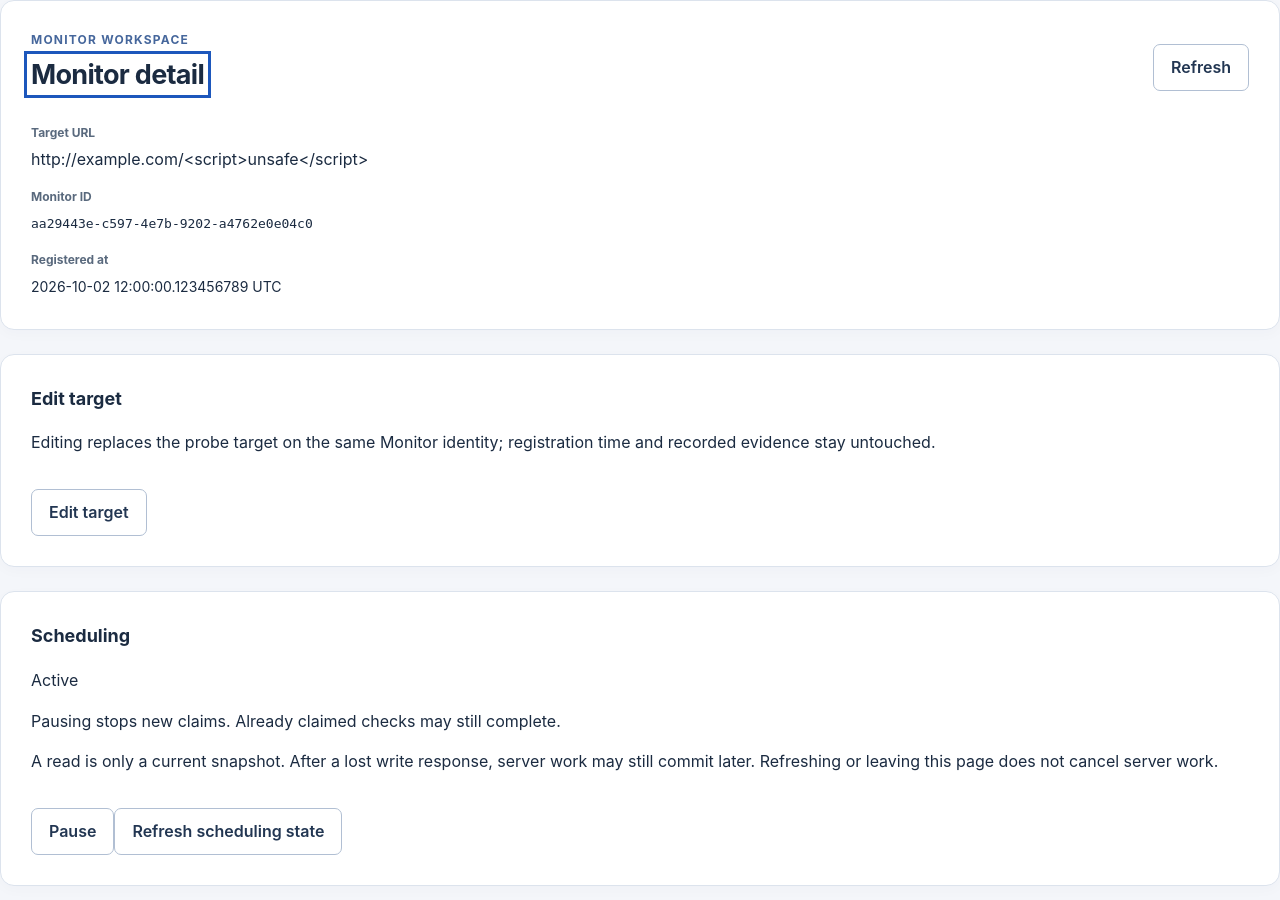
keeps scheduling write alive while evidence is refreshed
The image size is (1280, 900).
Click the button "Pause" at (73, 832), box [31, 808, 114, 855]
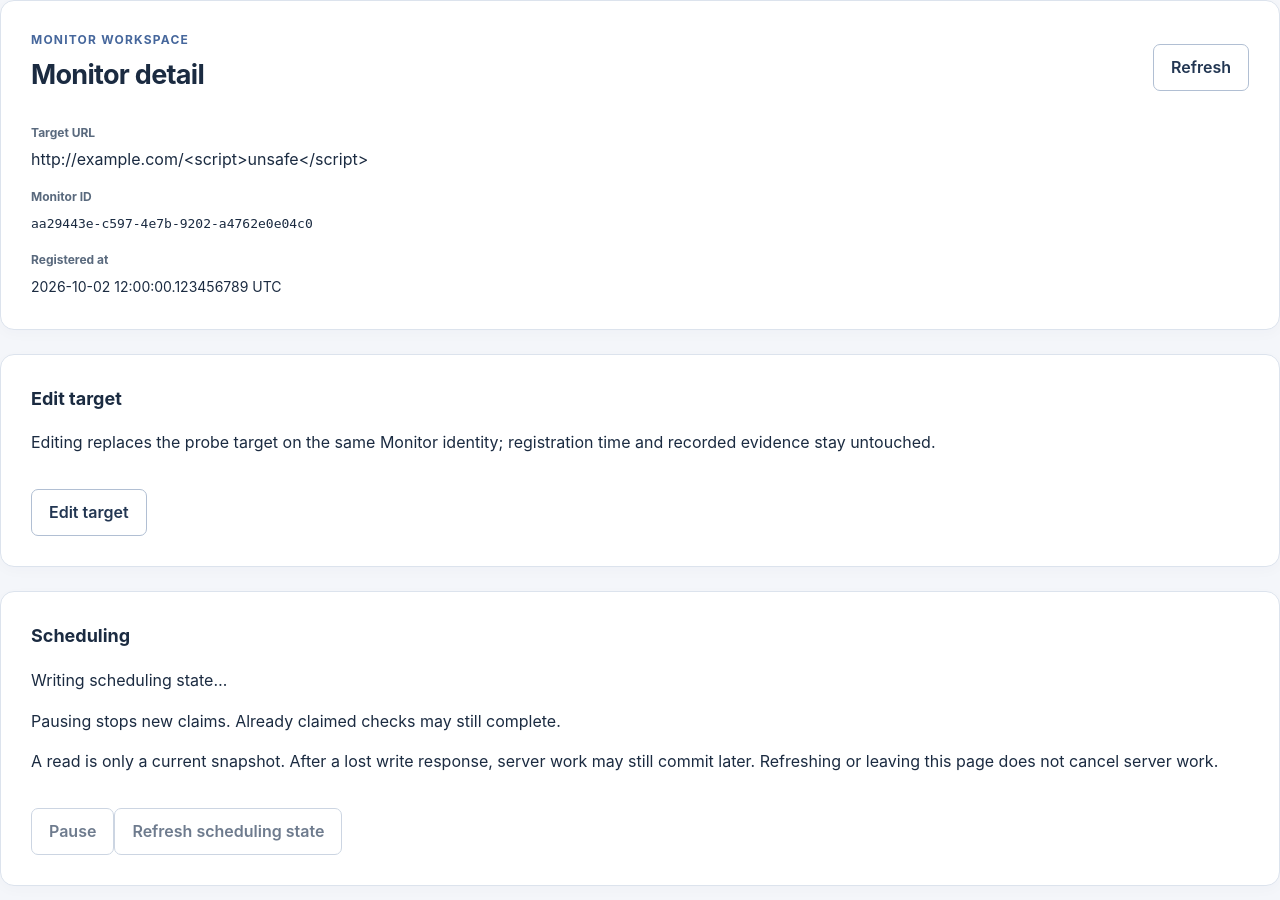
Click the button with aria-label "Refresh monitor" at (1201, 68), box [1153, 44, 1249, 91]
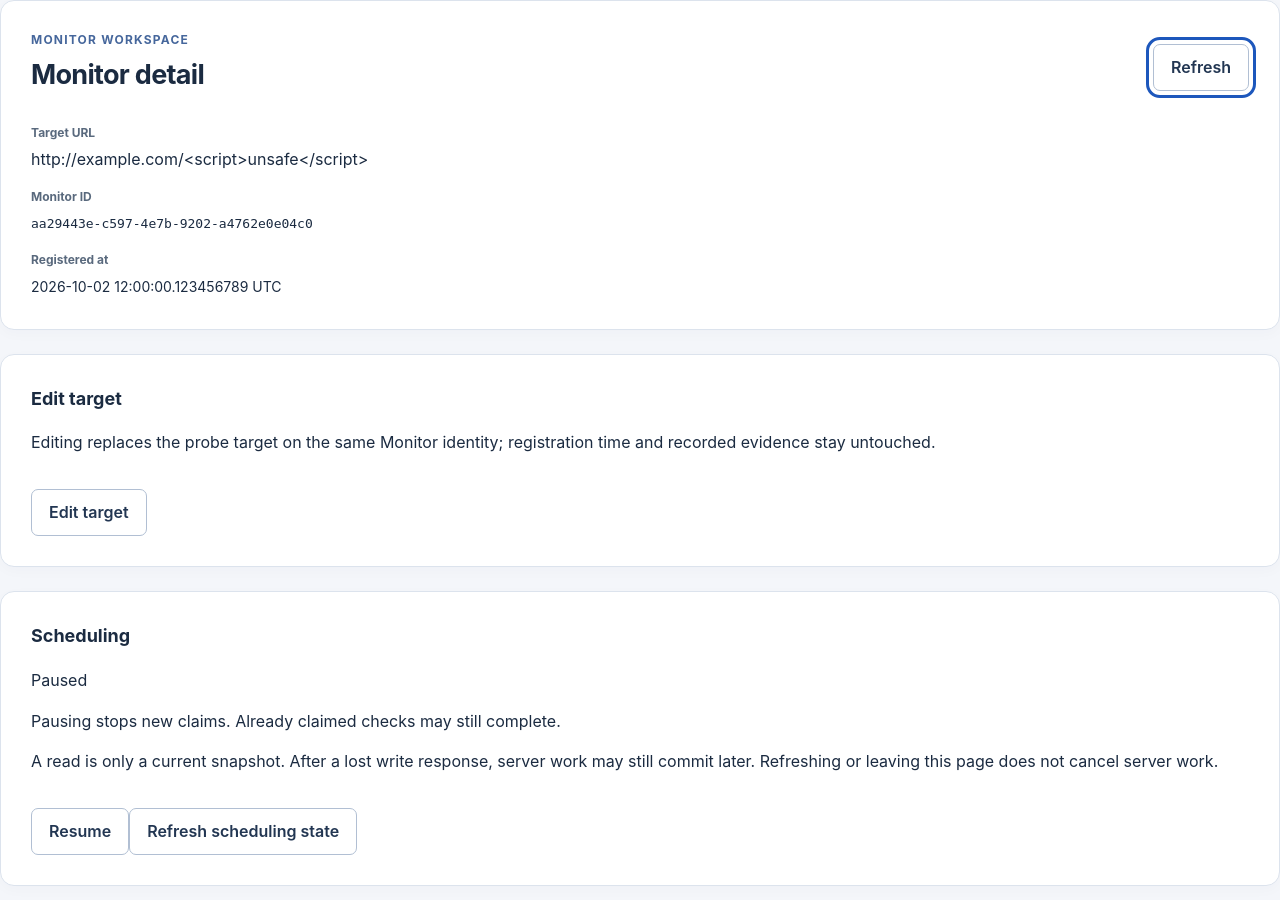
expect the button "Resume" is enabled: met, box [31, 808, 129, 855]
